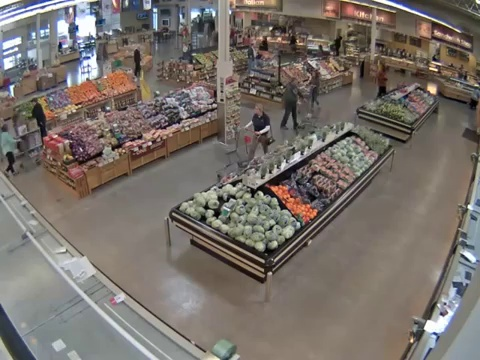face: (254, 106, 262, 115)
